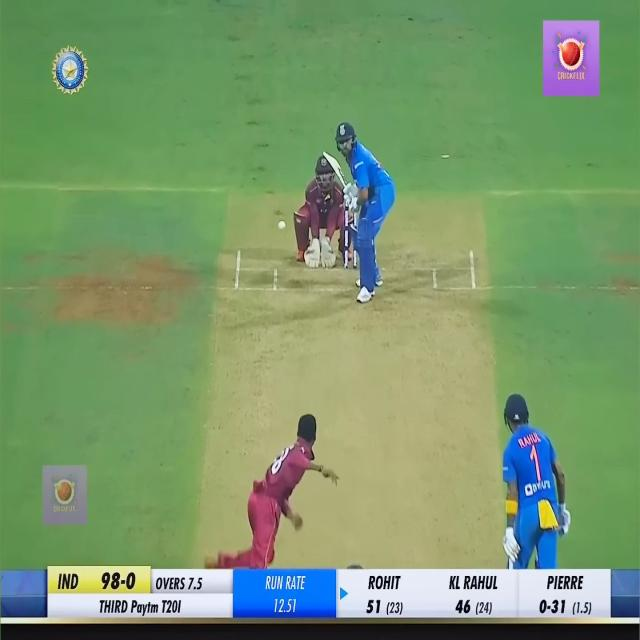fully_visible: (127, 593, 161, 618)
